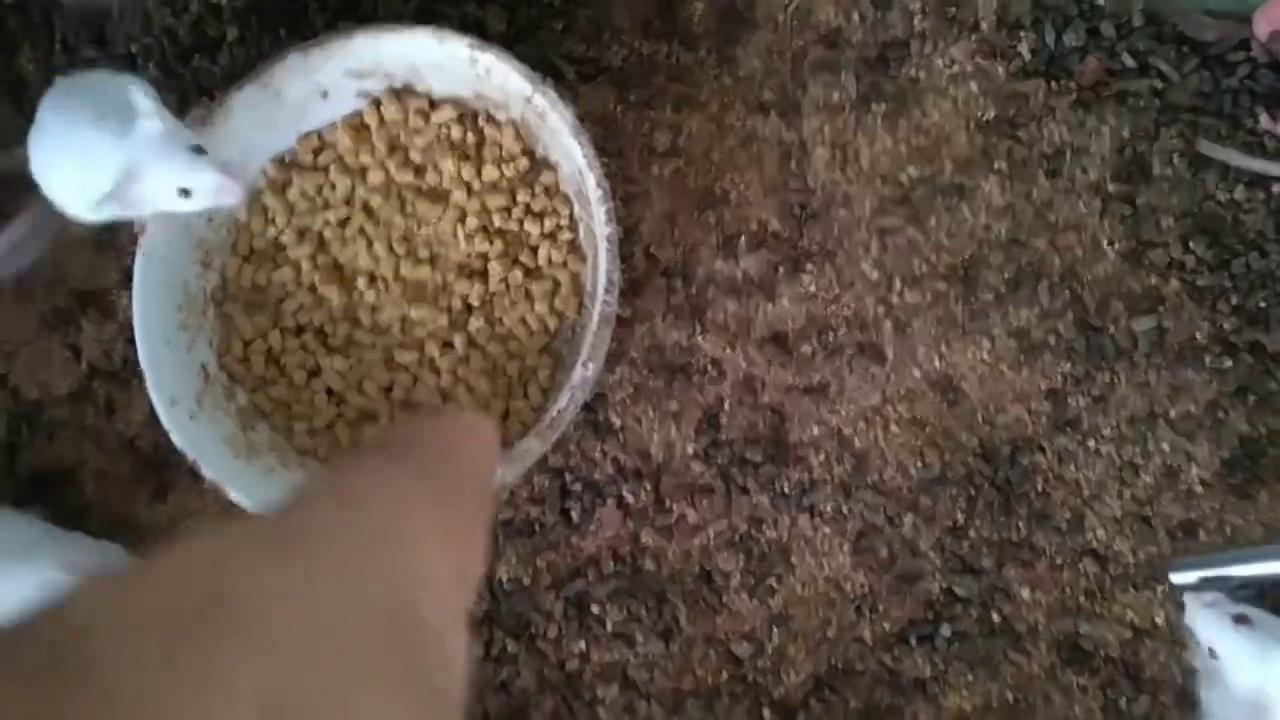rat: (26, 68, 245, 224), (1183, 588, 1280, 720)
